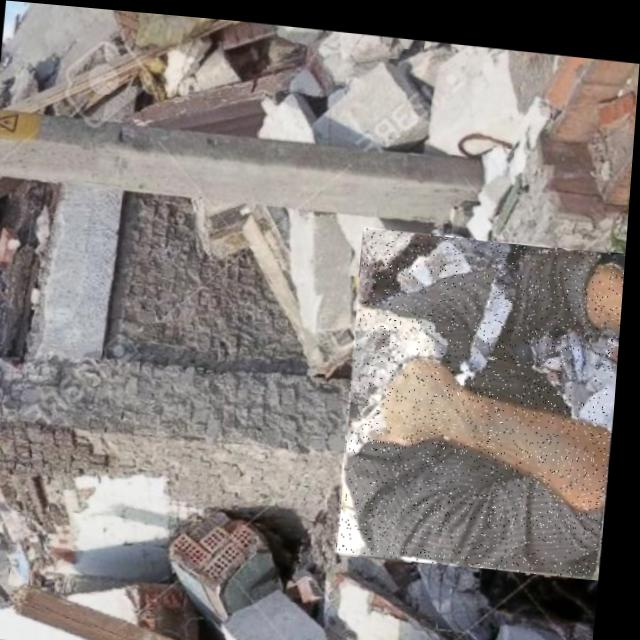Person in Rubble: (342, 218, 629, 568)
